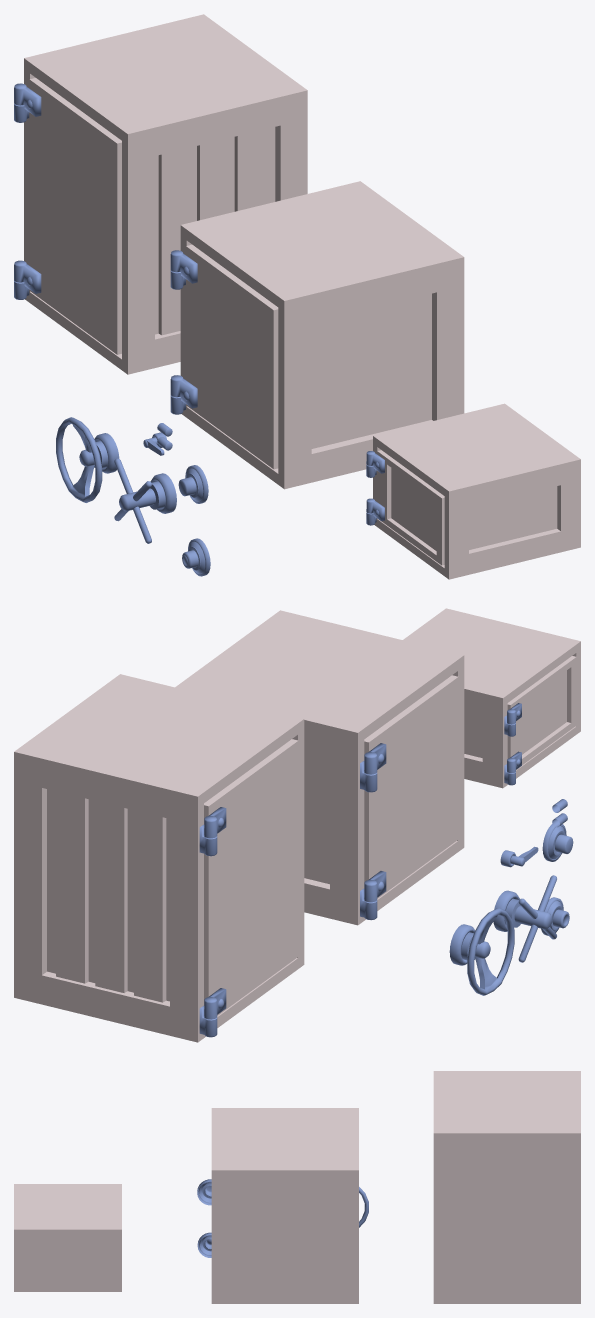
File: Safe_Pack_Full.fbx
The picture shows the model from 3 angles, top to bottom: view 1: azimuth 30°, elevation 25°; view 2: azimuth 150°, elevation 25°; view 3: azimuth 270°, elevation 25°; orthographic projection. The views are drawn at different scales.
Parts seen in each view (by area): view 1: safe_01, safe_02, Safe_03, safe_02_door, safe_01_door, Safe_03_door, Handle_01_part, Handle_03_part; view 2: safe_02, safe_01, safe_02_door, safe_01_door, Safe_03, Safe_03_door, Handle_01_part, Handle_03_part, Handle_04_part, Handle_01; view 3: safe_02, safe_01, Safe_03.
Boxes of the visible parts, x1,y1,x2,y2 form: safe_01: (170,181,464,489); safe_02: (14,14,307,374); Safe_03: (366,403,580,579); safe_02_door: (14,78,121,354); safe_01_door: (170,244,278,469); Safe_03_door: (366,450,444,565); Handle_01_part: (56,417,107,502); Handle_03_part: (114,458,165,543); safe_02: (14,674,304,1042); safe_01: (175,610,464,925); safe_02_door: (204,739,298,1019); safe_01_door: (364,675,458,902); Safe_03: (403,608,580,788); Safe_03_door: (507,656,576,773); Handle_01_part: (461,908,514,995); Handle_03_part: (505,875,556,962); Handle_04_part: (548,826,573,859); Handle_01: (449,924,474,965); safe_02: (433,1071,580,1303); safe_01: (211,1108,358,1303); Safe_03: (14,1184,121,1291).
Bounding box in the file's own units: 158 × 151 × 360.
